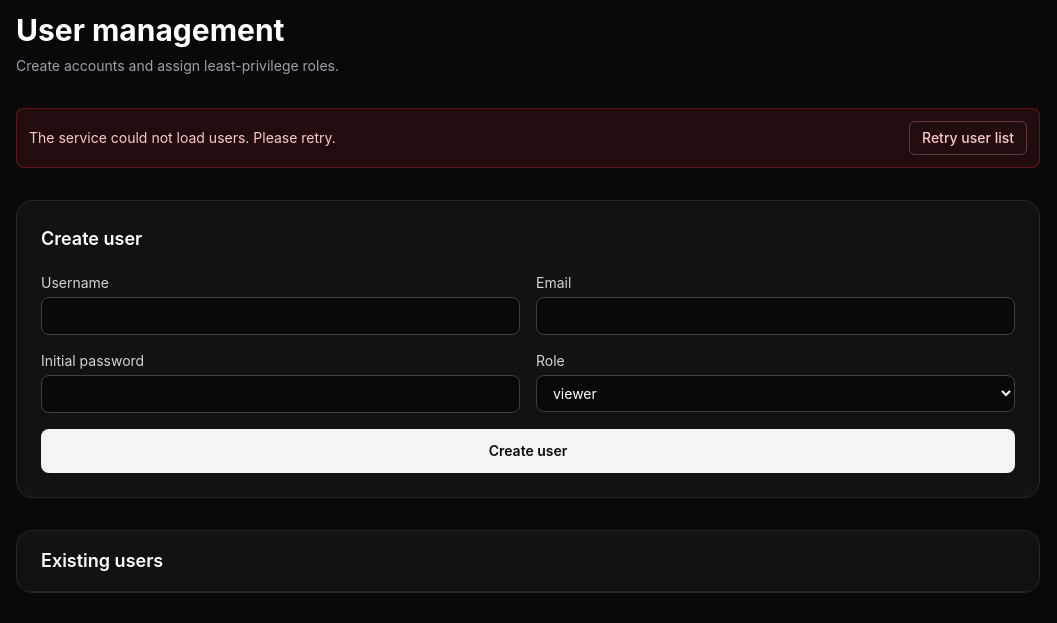
Test: UsersPage › shows a retryable error instead of a false empty state when listing fails
This screenshot has width=1057, height=623.
Expected: the message shows "The service could not load users. Please retry.", x1=29 y1=129 x2=336 y2=146
Click the button "Retry user list": [968, 138] box x1=909 y1=121 x2=1027 y2=155
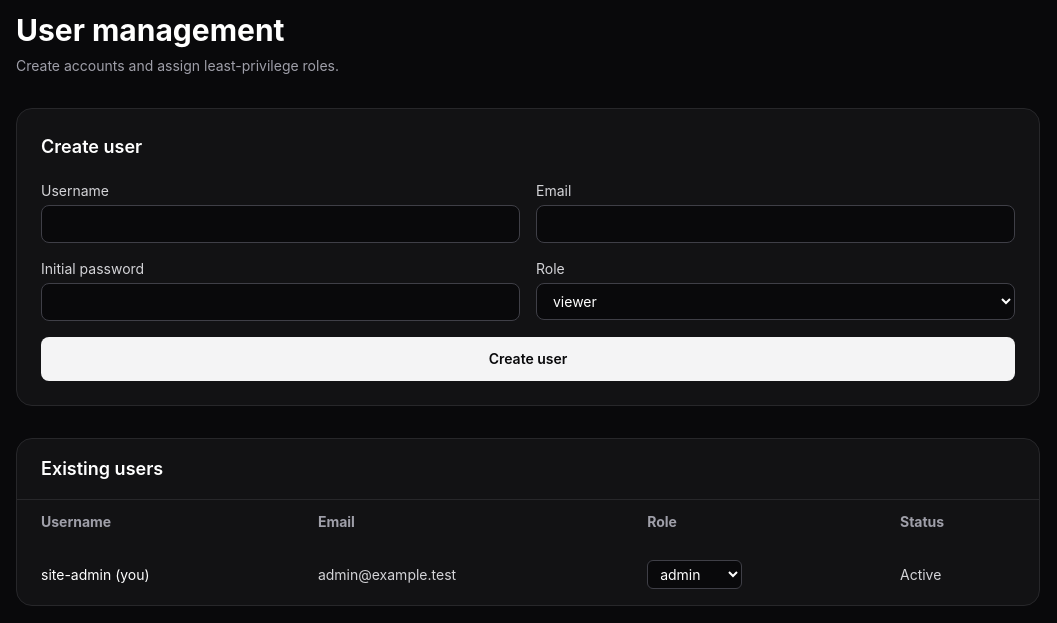
Expected: the text "site-admin (you)" is shown, x1=17 y1=544 x2=294 y2=605
Expected: the message "The service could not load users. Please retry. Retry user list" is gone
